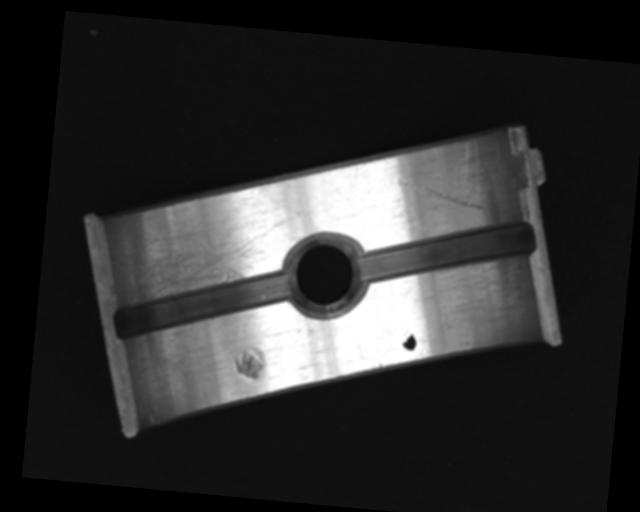blot: (401, 329, 418, 352)
bruise: (232, 344, 269, 381)
gap: (112, 256, 293, 352), (356, 206, 537, 299)
hole: (282, 232, 367, 317)
nick: (395, 178, 490, 212)
scratch: (111, 205, 286, 314)
